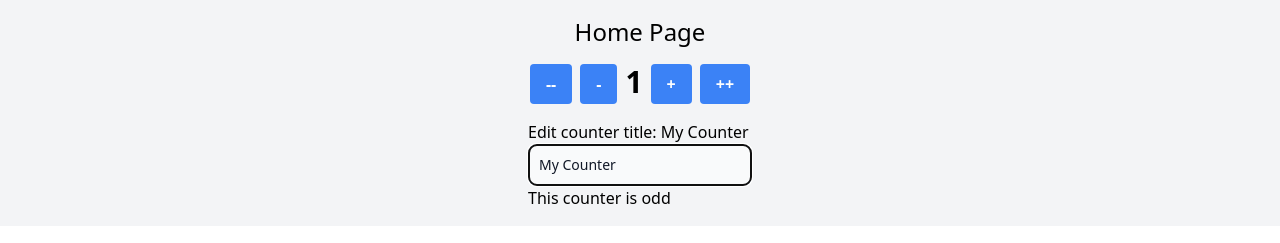
Test case: HomePage.vue › should the counter element decrement by one when the button is clicked
Click the button with class "decrement" at [599, 84], box [580, 64, 618, 104]
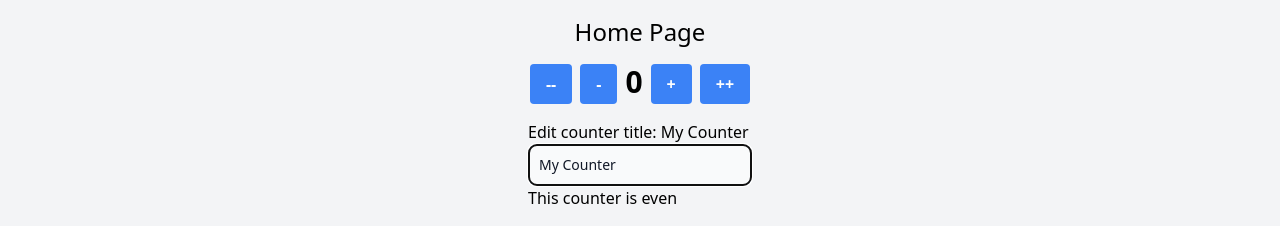
Result: the text with class "counter" reads "0" at [625, 61, 643, 102]
